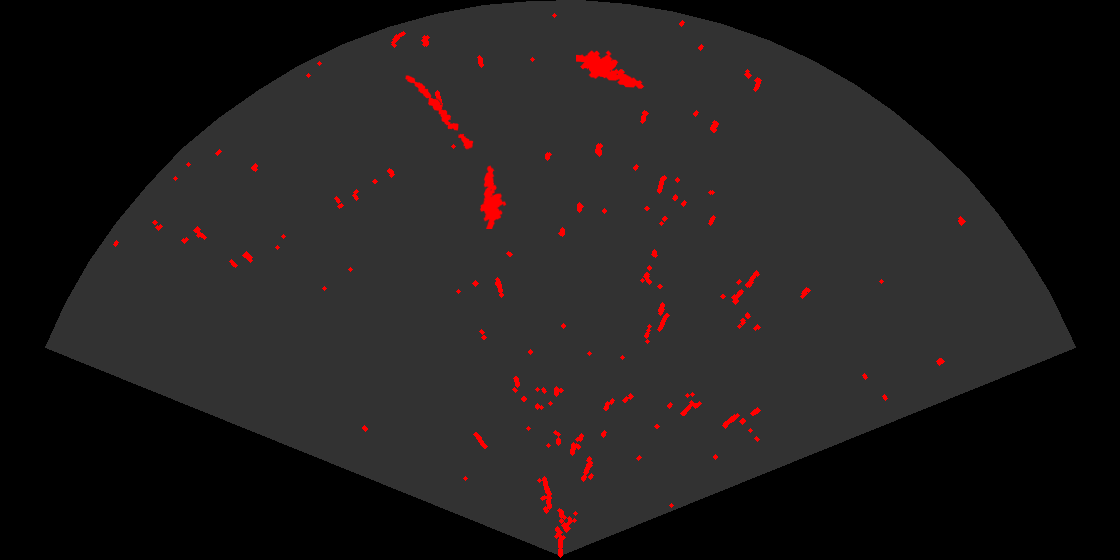chain: (404, 74, 475, 151)
frogman: (576, 49, 646, 90), (478, 164, 508, 229)
